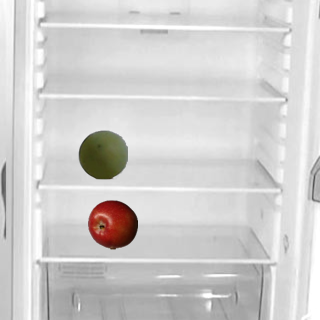Apple Braeburn: (87, 199, 137, 249)
Grape White 4: (77, 129, 127, 179)
